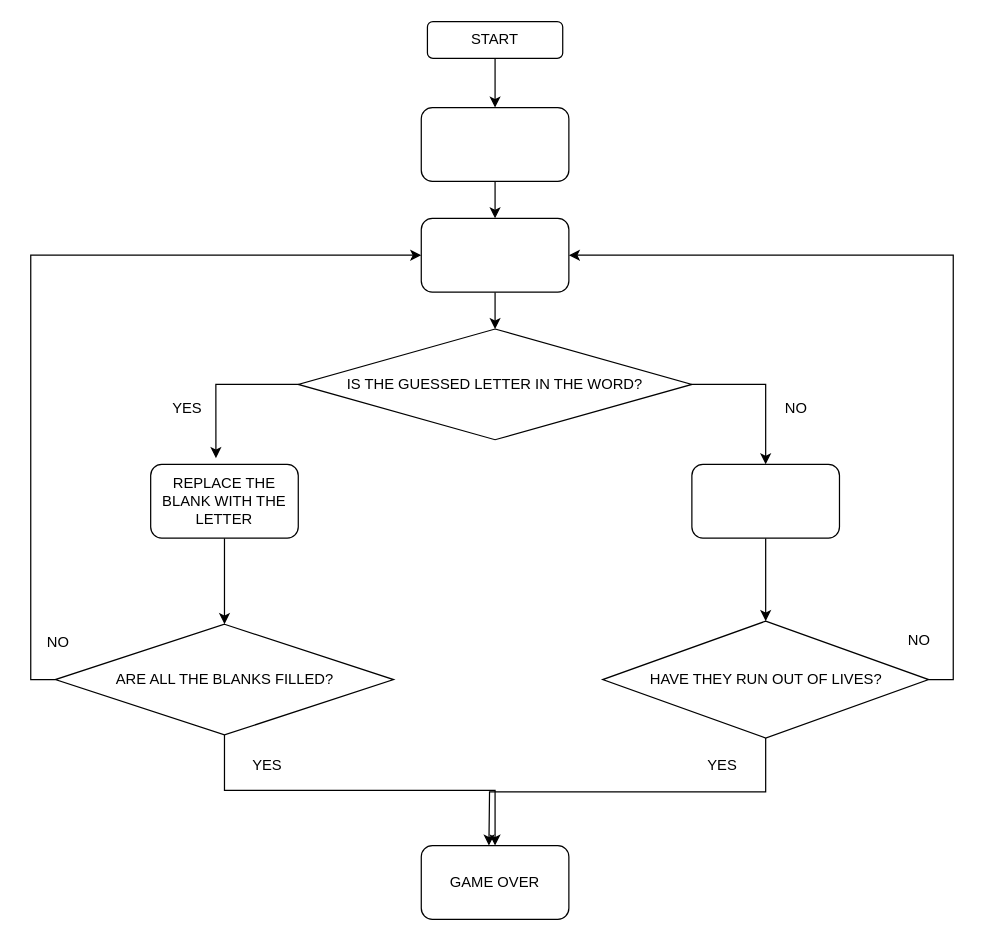
The diagram is 984 pixels wide and 941 high, and some of its shapes have lost their labels. Each missing label, with the centre of its shape:
"ASK THE USER TO GUESS A LETTER" goes at point (494, 254).
"GENERATE AS MANY BLANKS AS LETTERS IN THE WORD" goes at point (494, 143).
"LOSE A LIFE" goes at point (765, 500).
